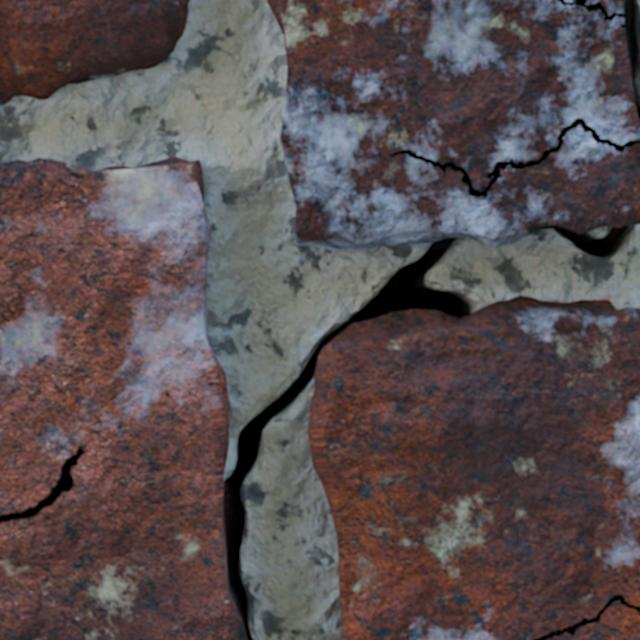crack: (0, 0, 639, 639), (0, 0, 189, 104)
